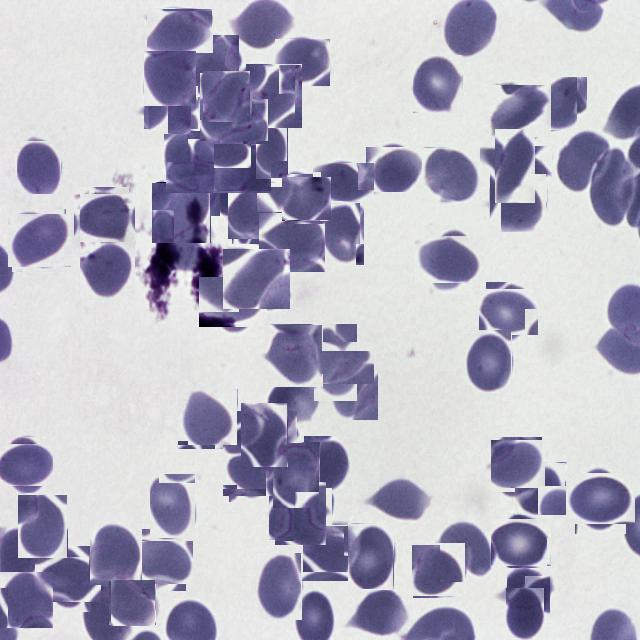red blood cell: (223, 249, 290, 309), (259, 213, 325, 272), (265, 323, 323, 388), (176, 388, 238, 448), (570, 469, 631, 529), (306, 332, 366, 392), (152, 182, 211, 243), (246, 64, 302, 128), (360, 474, 430, 524), (204, 272, 262, 332), (589, 151, 633, 230), (9, 212, 68, 270), (420, 230, 478, 288), (226, 441, 284, 499), (272, 485, 330, 543), (491, 82, 549, 140), (185, 35, 239, 97), (90, 521, 142, 585), (489, 175, 547, 232), (486, 138, 544, 195), (331, 350, 378, 420), (440, 518, 491, 582), (423, 146, 480, 203), (462, 329, 512, 393), (18, 494, 68, 558), (80, 242, 135, 300), (134, 532, 190, 588), (40, 551, 96, 607), (555, 132, 604, 196), (302, 526, 358, 582), (230, 186, 286, 242), (348, 523, 394, 591), (273, 442, 320, 508), (237, 408, 293, 463), (0, 571, 54, 628), (257, 552, 302, 620), (77, 190, 132, 245), (493, 514, 547, 570), (176, 150, 232, 204), (150, 473, 196, 538), (147, 8, 213, 53), (413, 54, 463, 113), (412, 544, 466, 598), (348, 590, 406, 640), (232, 0, 290, 50), (216, 142, 269, 196), (144, 51, 196, 106), (200, 99, 268, 141), (264, 374, 323, 422), (482, 286, 536, 338), (536, 76, 588, 130), (321, 202, 365, 265), (514, 462, 566, 515), (492, 438, 544, 491), (275, 39, 330, 86), (366, 147, 423, 192), (304, 436, 348, 493), (1, 440, 51, 490), (243, 123, 288, 178), (313, 162, 375, 201), (202, 72, 250, 121), (17, 141, 61, 194), (146, 84, 194, 132), (164, 131, 202, 190), (283, 175, 330, 222), (506, 568, 552, 614), (110, 580, 156, 626), (506, 588, 544, 638)
